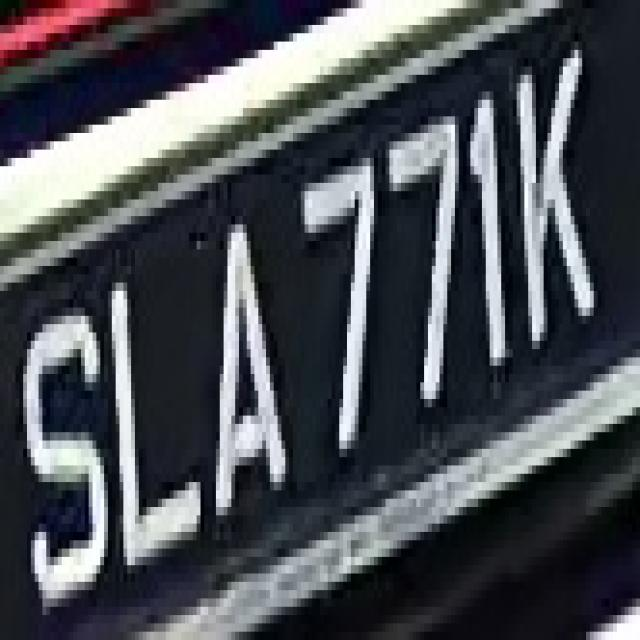1: (463, 74, 509, 416)
7: (293, 150, 397, 498), (378, 108, 470, 449)
A: (189, 199, 289, 557)
K: (494, 8, 606, 374)
L: (93, 232, 212, 574)
S: (8, 283, 108, 606)
